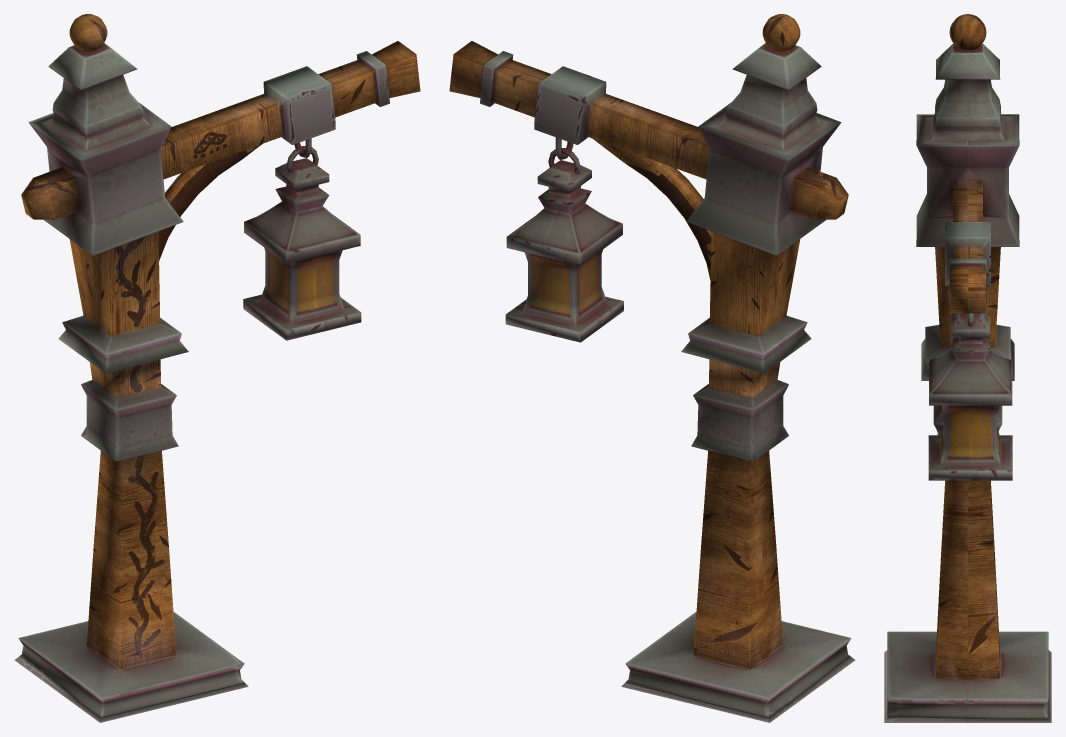
File: farola.glb
3 renders of one model, left to right at view 1: azimuth 30°, elevation 25°; view 2: azimuth 150°, elevation 25°; view 3: azimuth 270°, elevation 25°, orthographic. The views are drawn at different scales.
Parts seen in each view (by area): view 1: farola3_low, farola2_low, farola1_low, farola4_low; view 2: farola3_low, farola2_low, farola1_low, farola4_low; view 3: farola3_low, farola2_low, farola4_low.
Part boxes in pixels (x1,y1,x2,y2): farola3_low: (14,41,420,722); farola2_low: (243,158,361,340); farola1_low: (158,144,261,261); farola4_low: (69,14,107,51); farola3_low: (449,41,855,722); farola2_low: (505,160,623,342); farola1_low: (592,138,711,280); farola4_low: (762,14,800,51); farola3_low: (884,43,1051,722); farola2_low: (928,312,1012,480); farola4_low: (949,14,986,50).
Bounding box in the file's own units: 12.37 × 20.46 × 4.76.
1 material, 1 textured.
